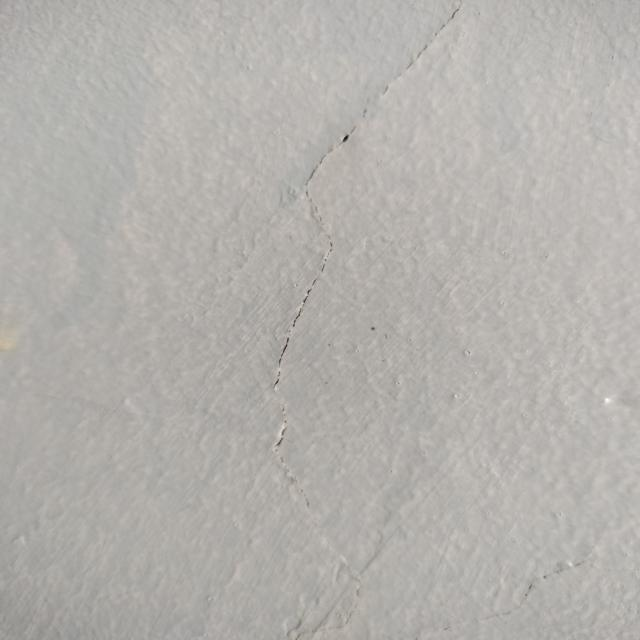Crack: (266, 0, 464, 460)
